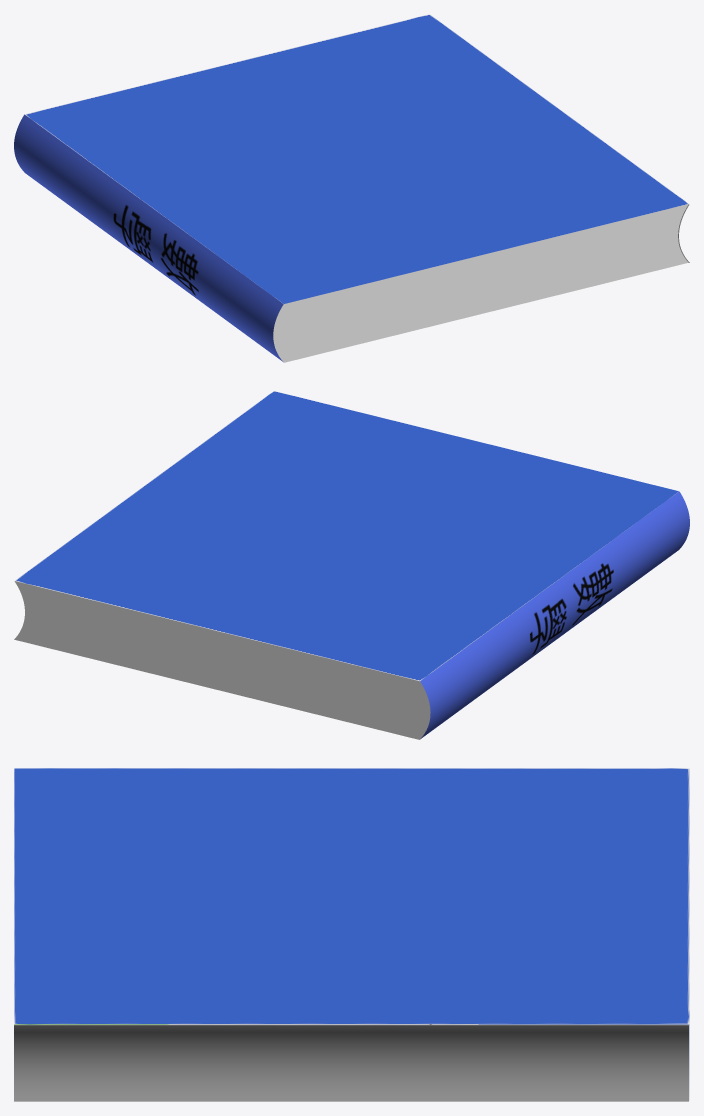
3 views of the same model, one above another, from view 1: azimuth 30°, elevation 25°; view 2: azimuth 150°, elevation 25°; view 3: azimuth 270°, elevation 25° (orthographic). The views are drawn at different scales.
Parts seen in each view (by area): view 1: Arc001; view 2: Arc001; view 3: Arc001, Arc002.
Boxes of the visible parts, box(x1,y1,x2,y2) form: Arc001: box(14, 14, 688, 362); Arc001: box(14, 391, 689, 739); Arc001: box(14, 768, 689, 1100); Arc002: box(14, 1024, 688, 1101).
Size of the model in its own units: 8.7 by 1.2 by 9.39.
2 materials, 1 textured.
